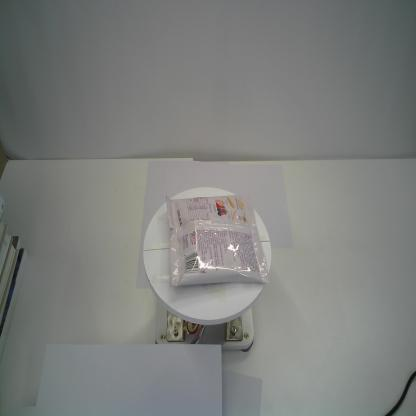Instant Drink: (166, 194, 270, 288)
